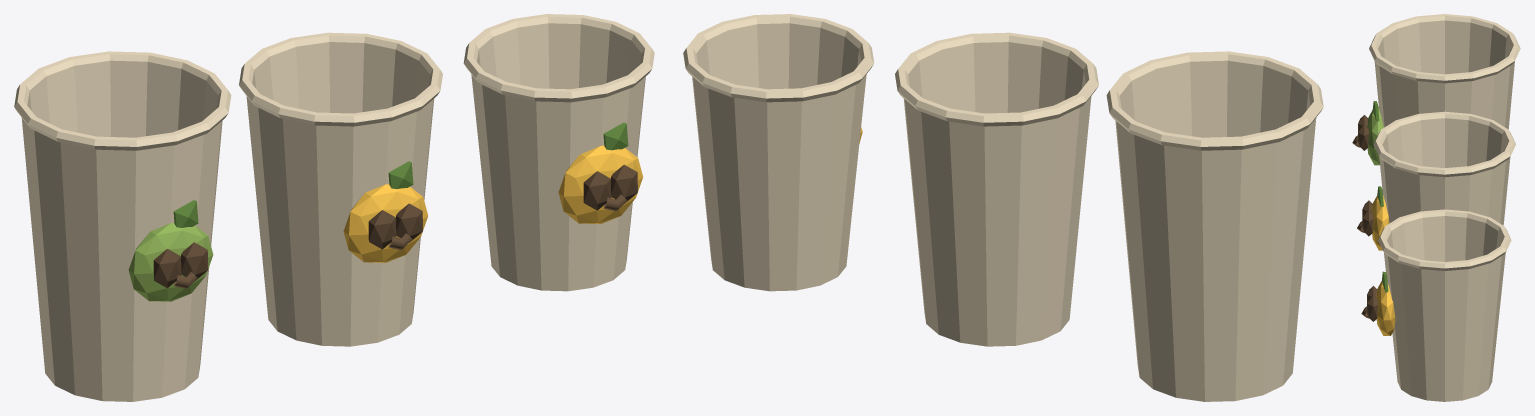
The model's file is paper_cups.fbx.
The picture shows the model from 3 angles, left to right: view 1: azimuth 30°, elevation 25°; view 2: azimuth 150°, elevation 25°; view 3: azimuth 270°, elevation 25°; orthographic projection. The views are drawn at different scales.
Parts seen in each view (by area): view 1: paper_cups; view 2: paper_cups; view 3: paper_cups.
Part boxes in pixels (bbox=[...]): paper_cups: bbox=[14, 14, 654, 401]; paper_cups: bbox=[683, 14, 1323, 401]; paper_cups: bbox=[1352, 14, 1520, 401].
Size of the model in its own units: 32.4 by 13.76 by 11.1.
